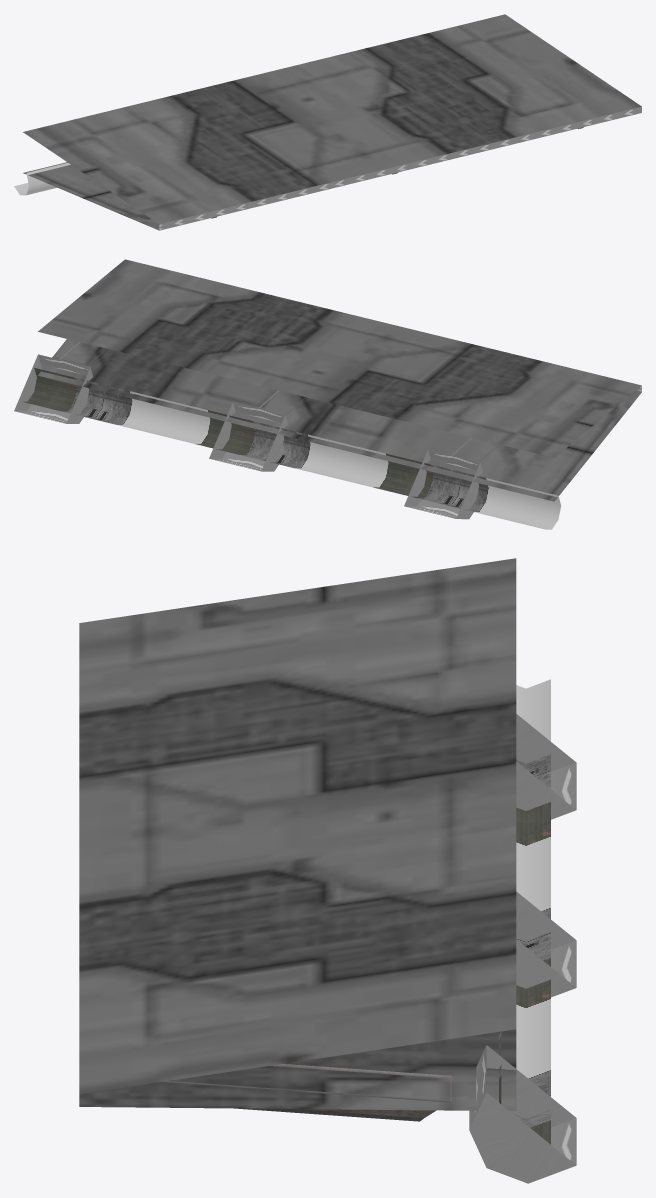
Rendered from japanese-roof.glb.
3 renders of one model, top to bottom at view 1: azimuth 30°, elevation 25°; view 2: azimuth 150°, elevation 25°; view 3: azimuth 270°, elevation 25°, orthographic. The views are drawn at different scales.
Parts seen in each view (by area): view 1: Japanese_Roof; view 2: Japanese_Roof; view 3: Japanese_Roof.
Boxes of the visible parts, bbox=[...] form: Japanese_Roof: bbox=[14, 14, 641, 230]; Japanese_Roof: bbox=[14, 259, 641, 529]; Japanese_Roof: bbox=[79, 558, 576, 1183].
Bounding box in the file's own units: 2.4 × 0.3324 × 1.01.
2 materials, 2 textured.
